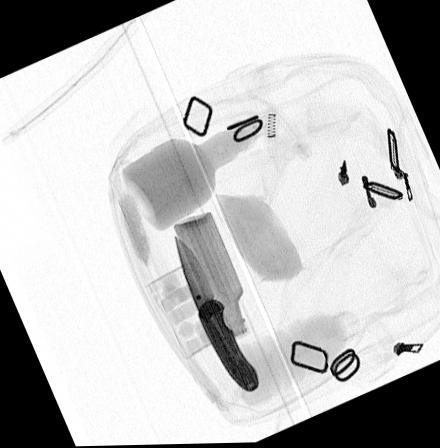Knife: (173, 236, 258, 395)
